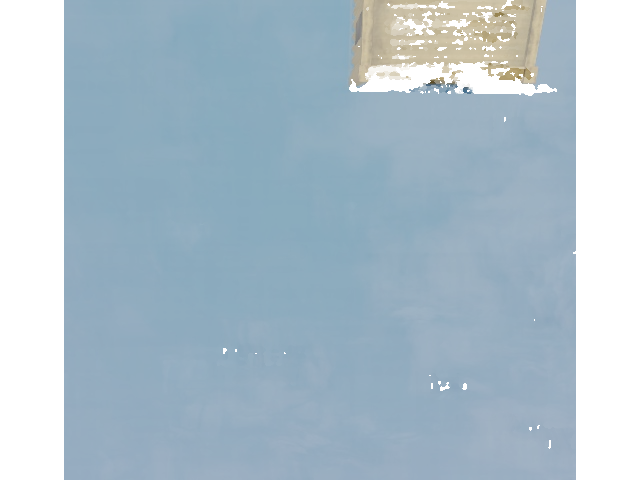container3: (342, 0, 552, 99)
